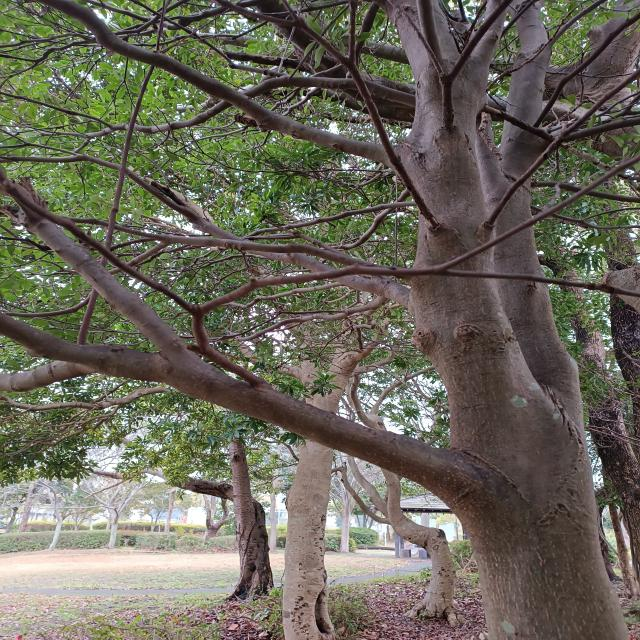Branch: (162, 345, 510, 524), (396, 56, 553, 446), (488, 116, 584, 430)
Twig: (42, 0, 392, 165), (0, 171, 210, 345), (0, 204, 183, 357), (0, 154, 242, 240), (74, 217, 409, 273), (283, 0, 388, 141), (136, 0, 282, 78), (539, 12, 640, 121), (0, 311, 161, 379), (248, 248, 409, 310), (205, 266, 374, 312), (501, 1, 550, 145), (38, 101, 232, 137), (378, 0, 461, 70), (243, 75, 413, 105), (568, 68, 639, 132), (0, 359, 97, 392), (195, 346, 270, 386), (462, 0, 508, 64), (562, 117, 639, 141), (362, 38, 410, 65)
